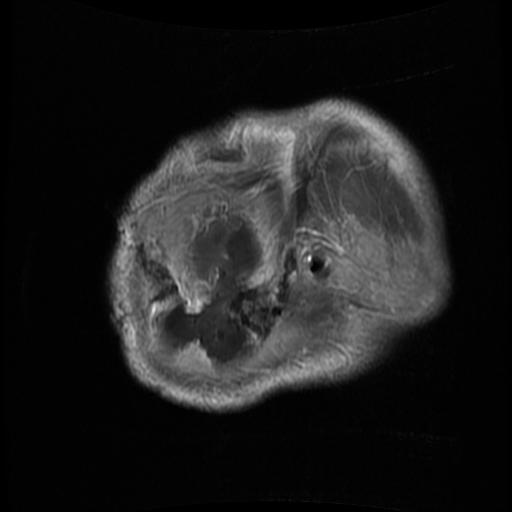glioma: (165, 213, 273, 364)
